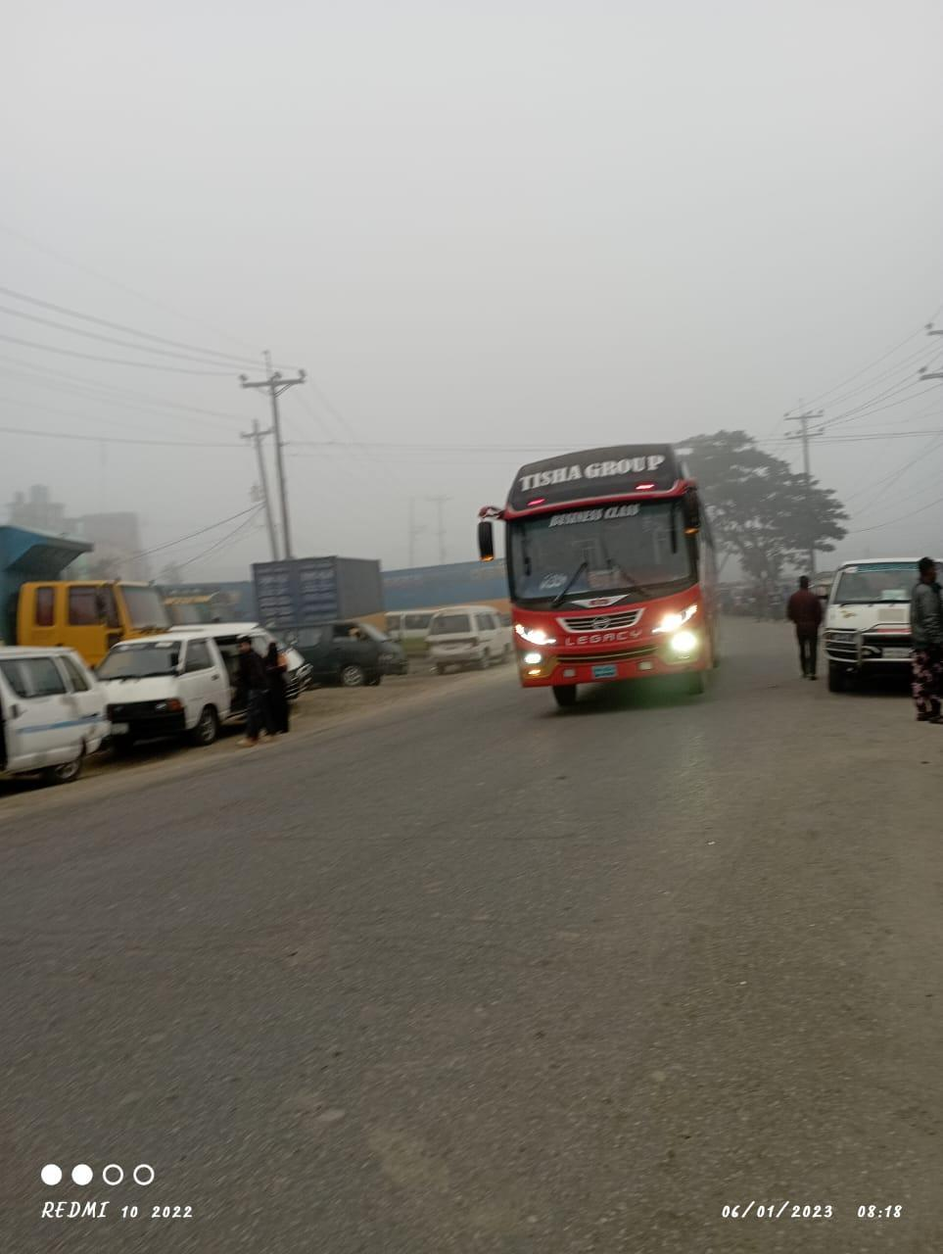Bus: (478, 434, 723, 698)
Car: (99, 628, 309, 740), (812, 545, 937, 681), (12, 631, 114, 795), (420, 593, 507, 681)
Truck: (251, 541, 407, 635)
